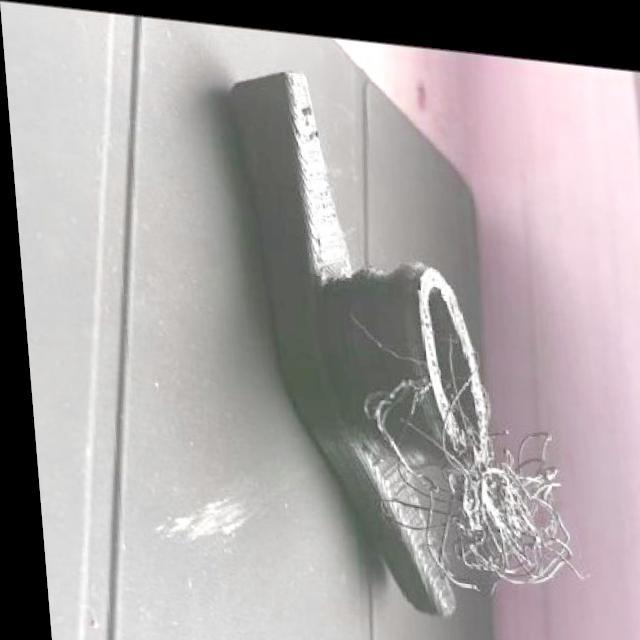spaghetti: (351, 362, 588, 596), (343, 300, 424, 358), (438, 326, 476, 375)
